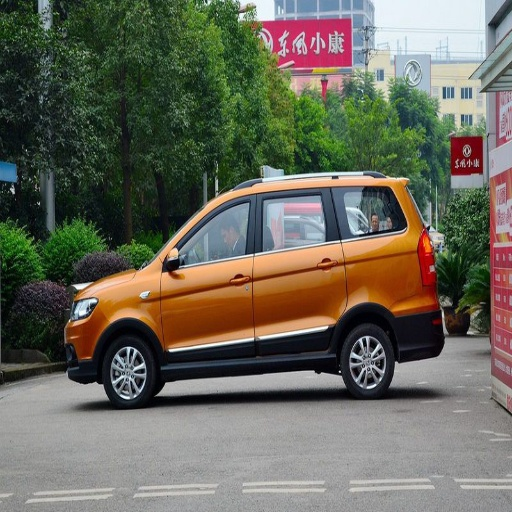back_left_door: (253, 188, 346, 353)
front_left_door: (162, 192, 256, 357)
